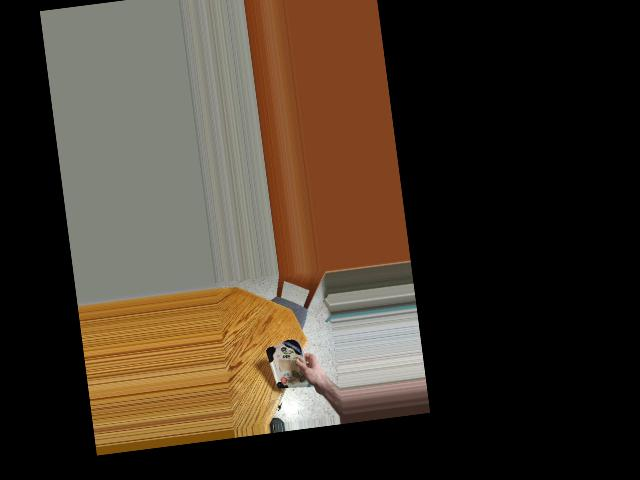cheese: (266, 335, 311, 402)
